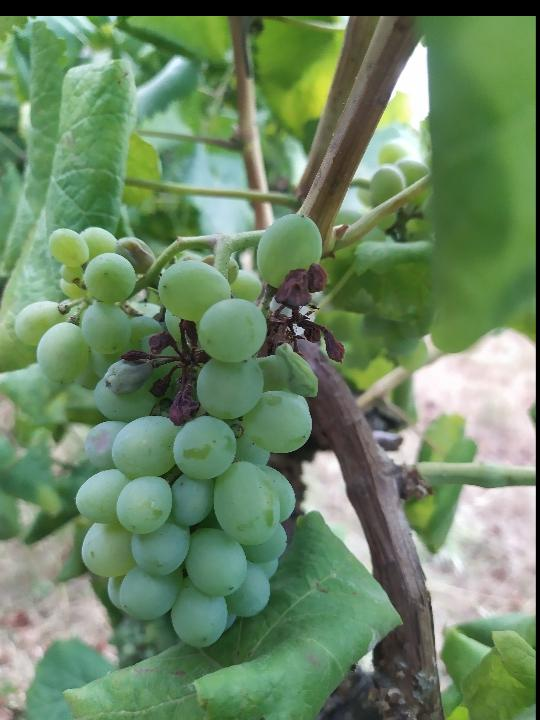grape: (11, 210, 349, 650)
